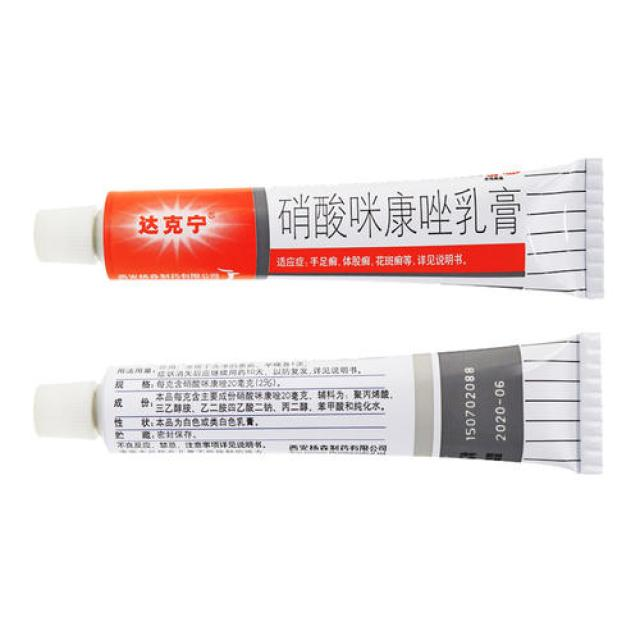-Hazardous waste - medicine inner packaging-: (30, 331, 604, 480), (37, 164, 609, 302)
